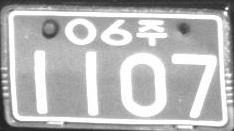0: (118, 51, 168, 117), (63, 17, 97, 45)
1: (72, 51, 113, 116), (22, 49, 61, 114)
6: (99, 18, 133, 47)
7: (171, 52, 217, 118)
주: (136, 18, 167, 47)
